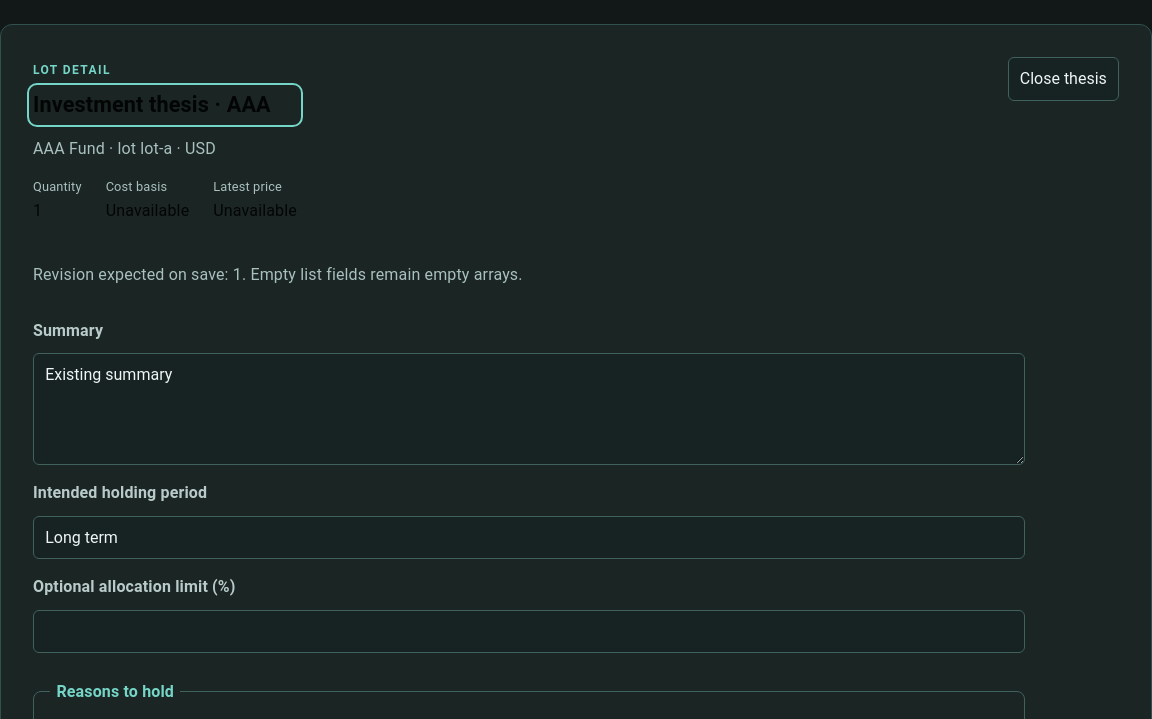
Test: ThesisEditor response contracts › preserves every edited field and retries a 400 save
The width and height of the screenshot is (1152, 719).
Replace the text in the text box labelled "Summary" with "Edited summary" at (529, 409), box 33,353 -> 1025,465
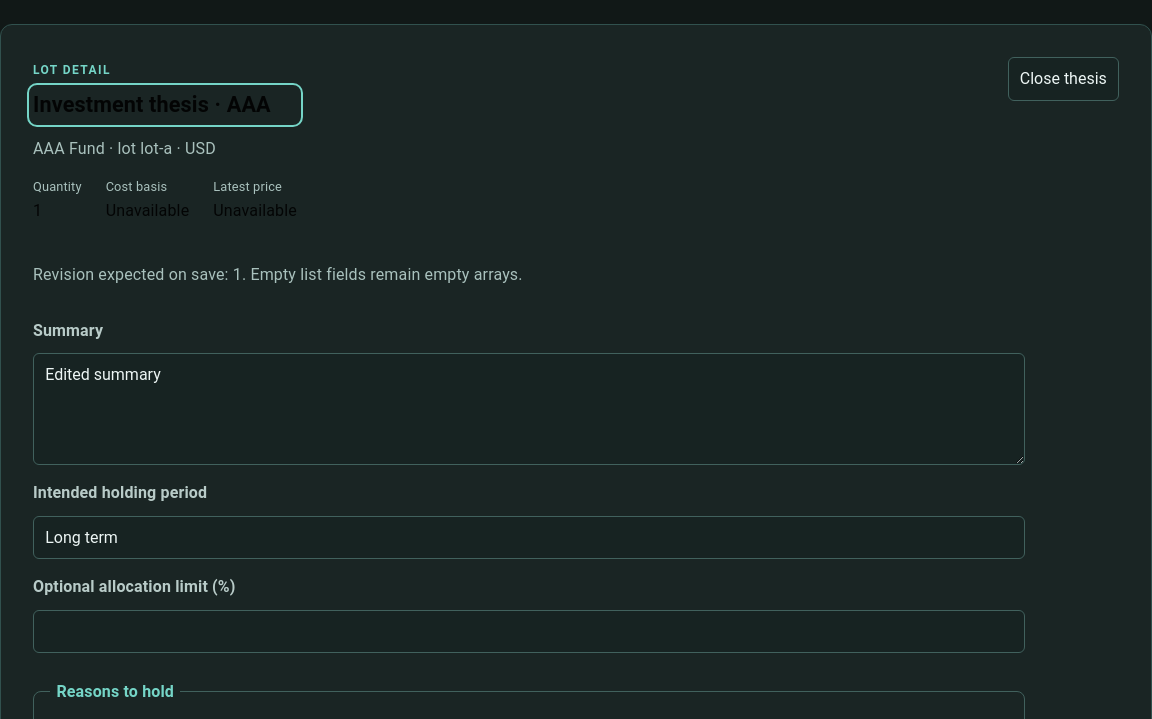
Replace the text in the field labelled "Intended holding period" with "One year" at (529, 538), box 33,516 -> 1025,559
(page scrolled)
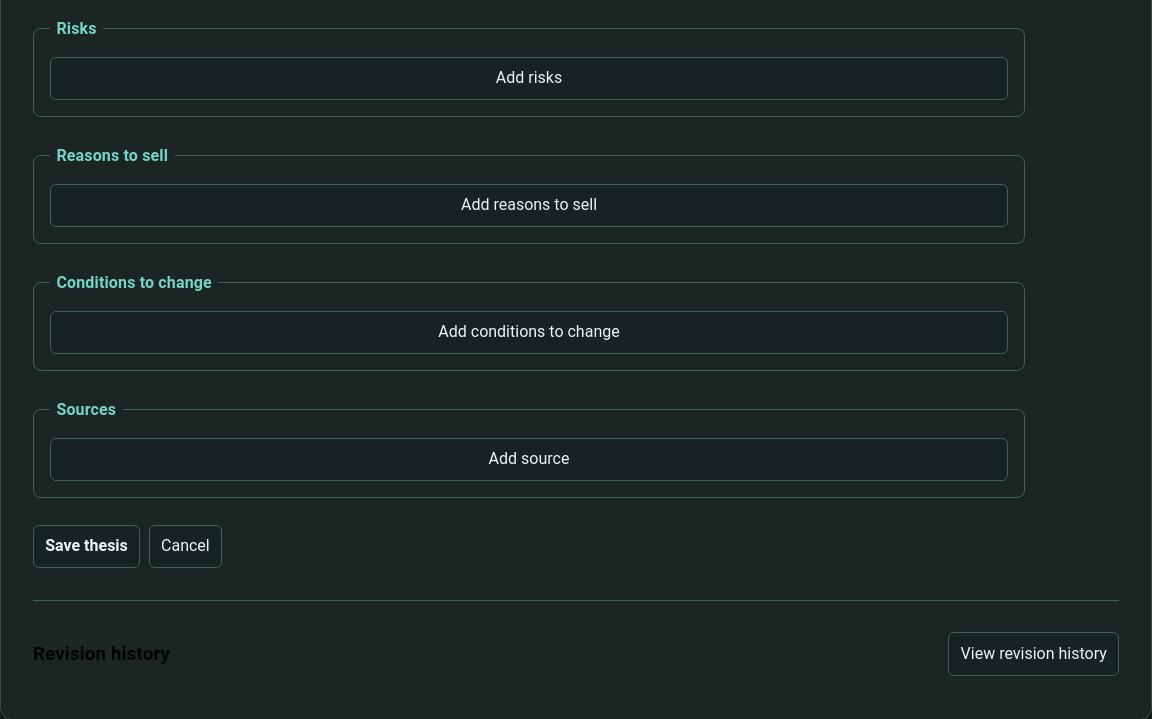
Click the button "Save thesis".
click(86, 546)  # box 33,525 -> 140,568
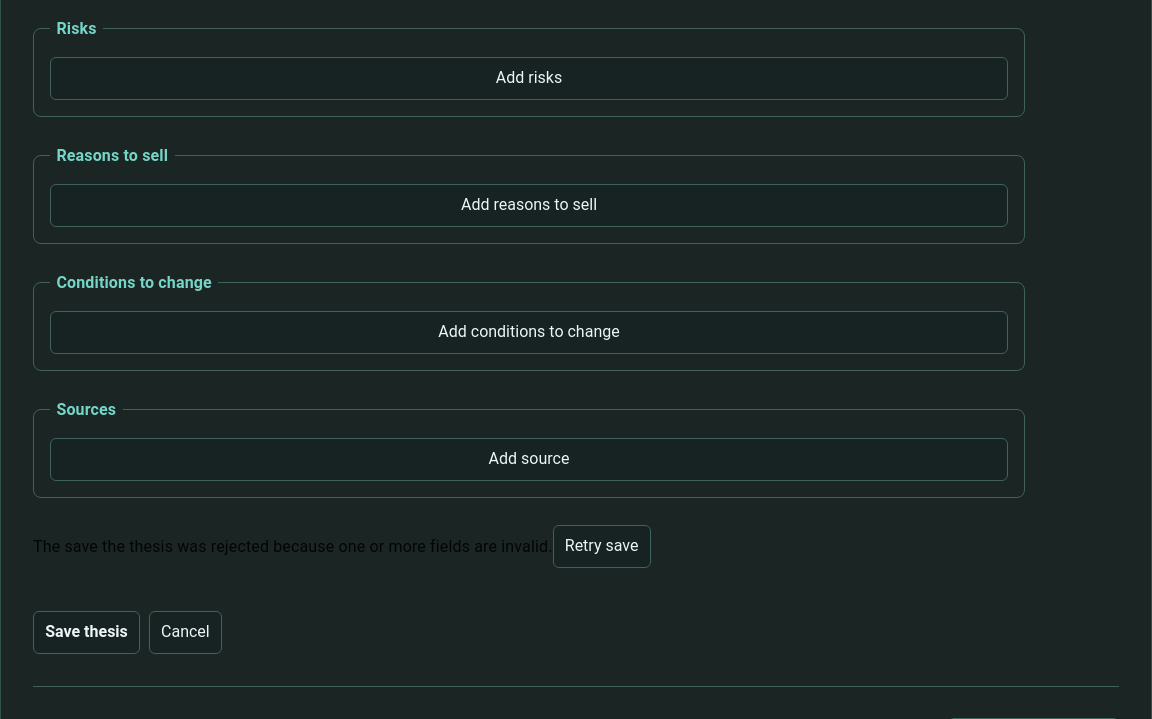
Click the button "Retry save".
click(602, 546)  # box 553,525 -> 651,568
(page scrolled)
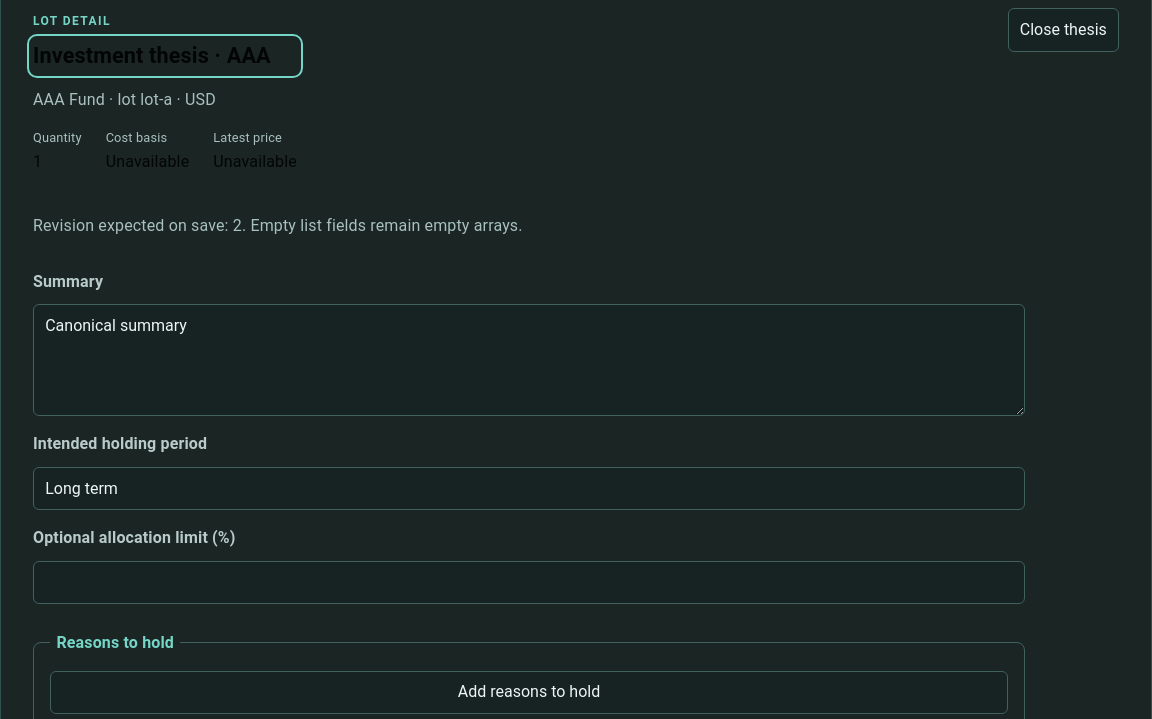
Check: the text box showing "Canonical summary" is shown, box 33,304 -> 1025,416
